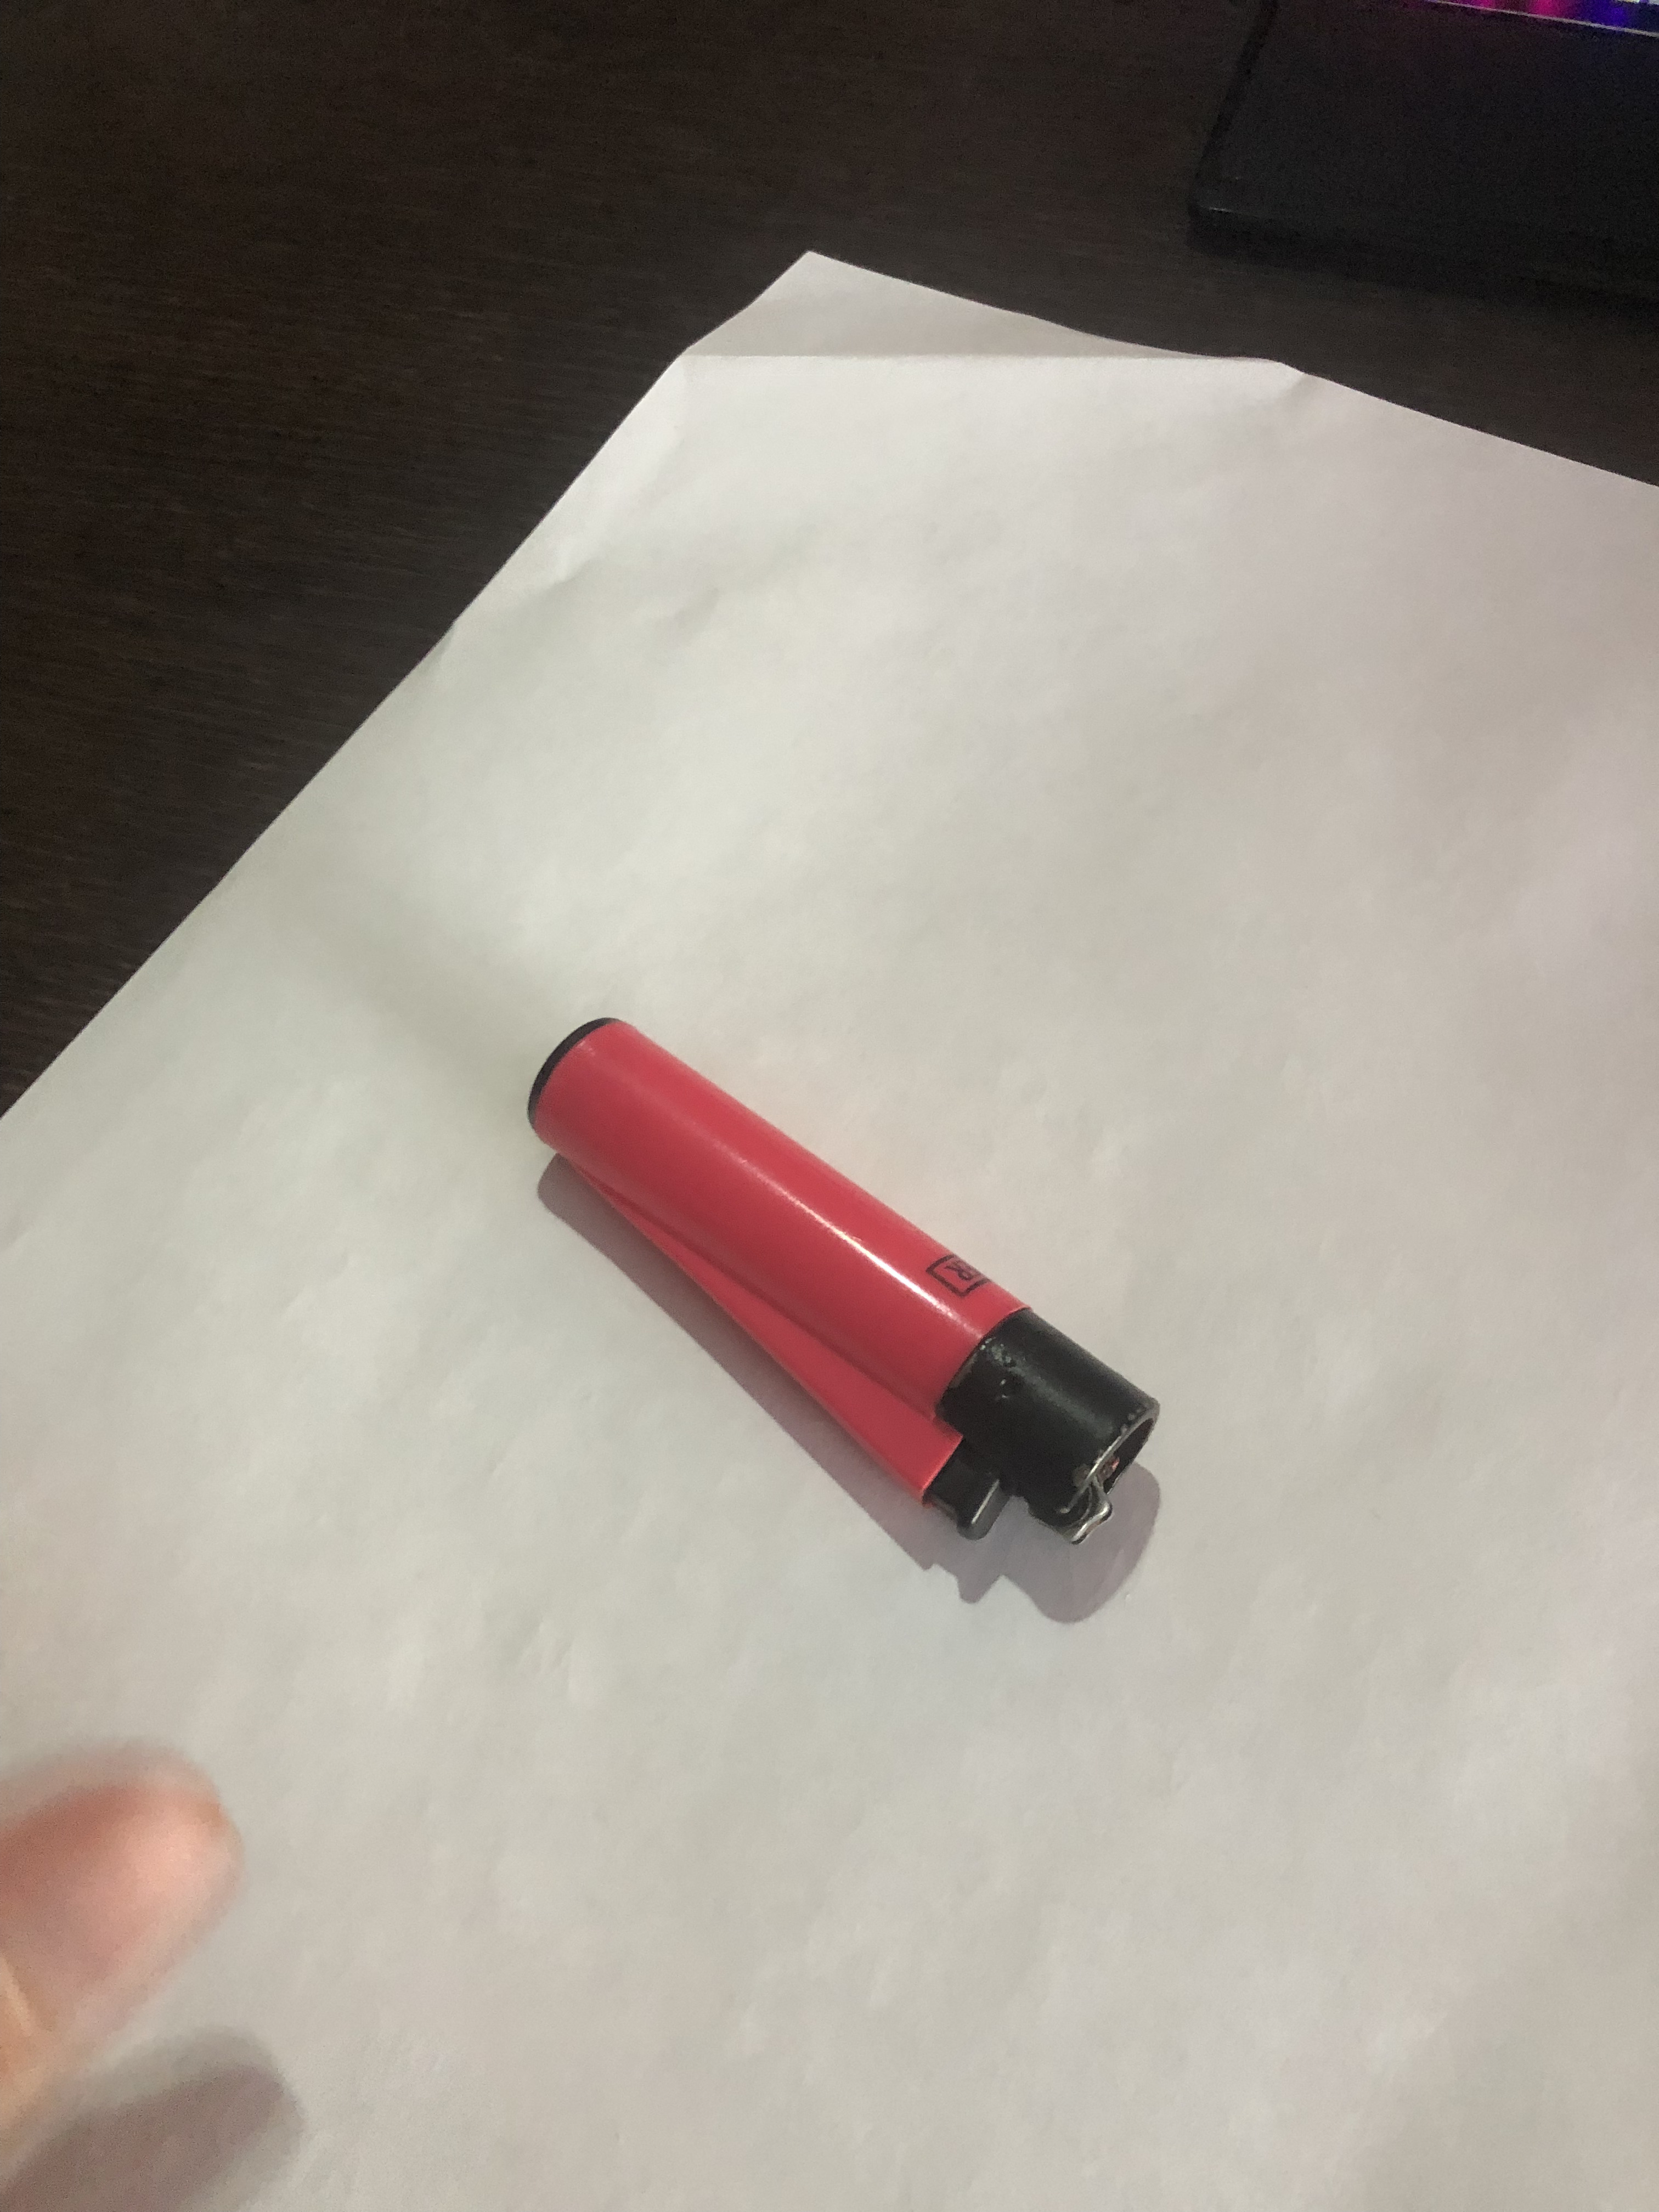Mechero: (521, 1001, 1161, 1550)
